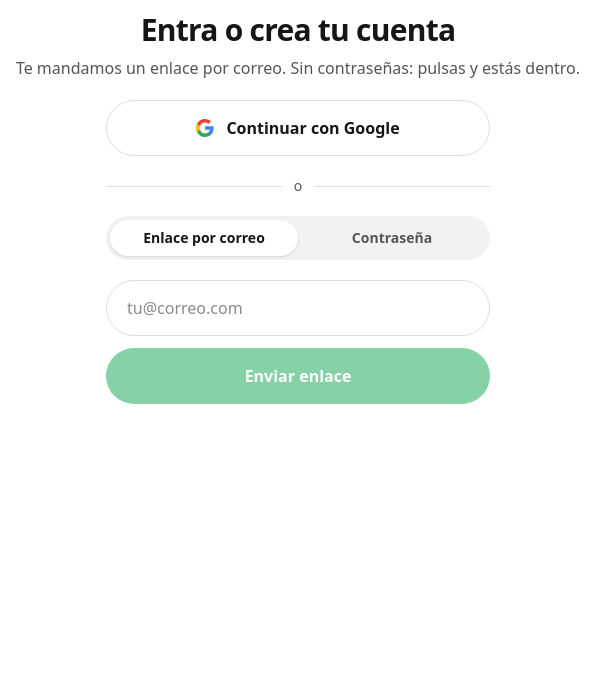
Test: AccountClient — cómo se entra y cómo se registra uno › un nombre cogido se dice antes de crear nada
Click the button "Contraseña" at (392, 238), box [298, 220, 486, 256]
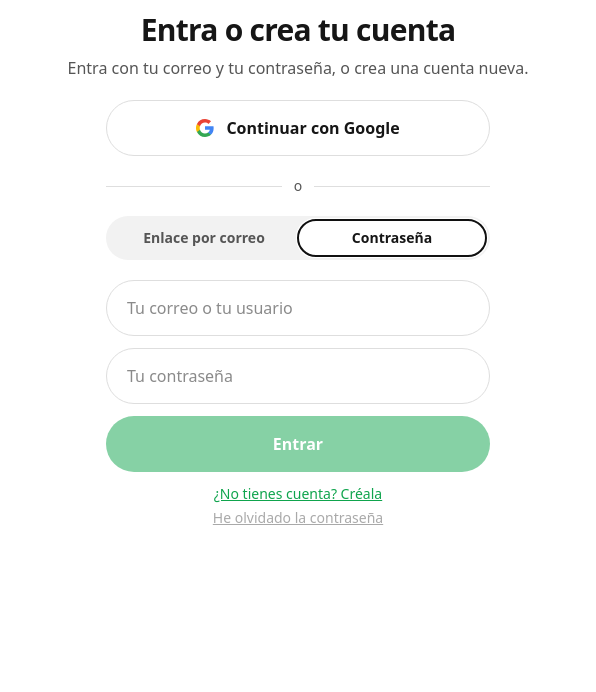
Click the button "¿No tienes cuenta? Créala" at (298, 494), box [106, 484, 490, 504]
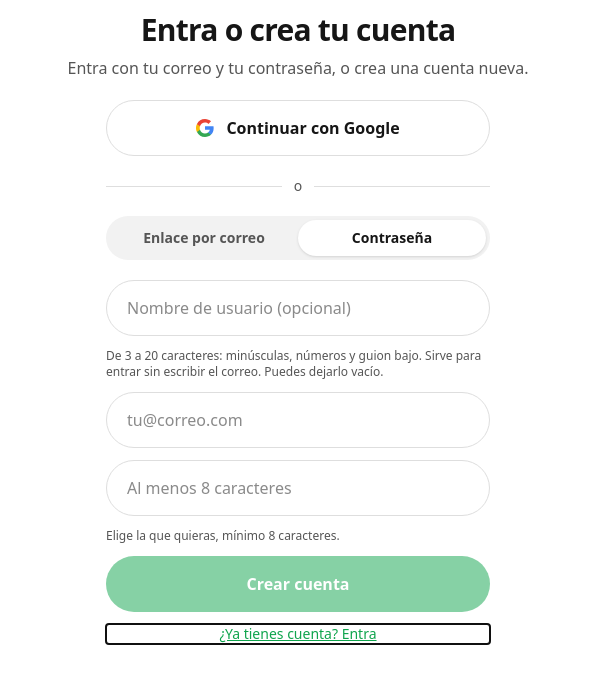
Type "ana_87" into the field labelled "Nombre de usuario" at (298, 308), box [106, 280, 490, 336]
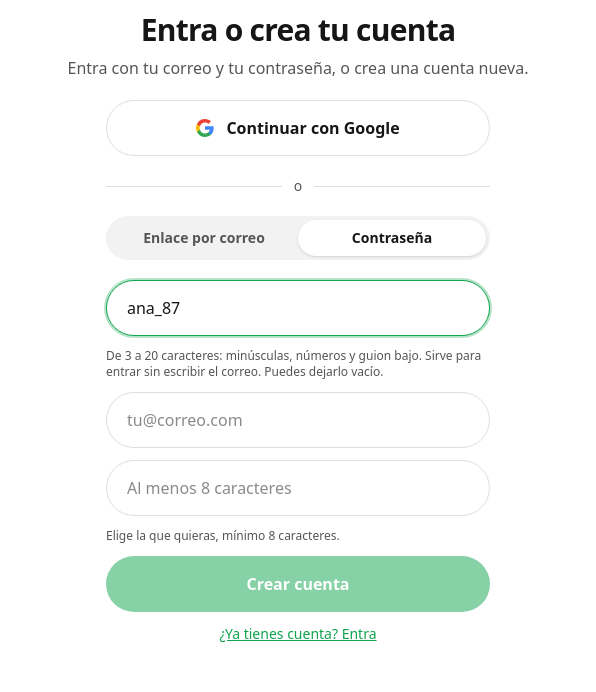
Type "ana@ejemplo.com" into the field named "Tu correo electrónico" at (298, 420), box [106, 392, 490, 448]
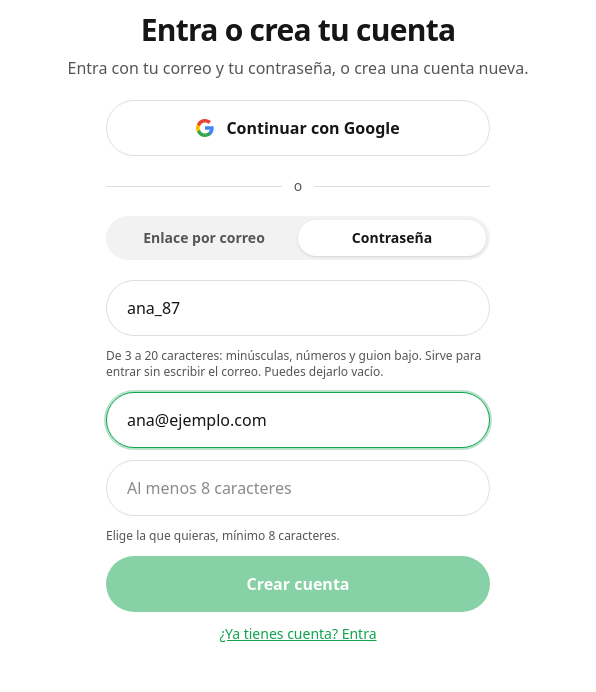
Type "contrasena-larga" into the password field named "Contraseña" at (298, 488), box [106, 460, 490, 516]
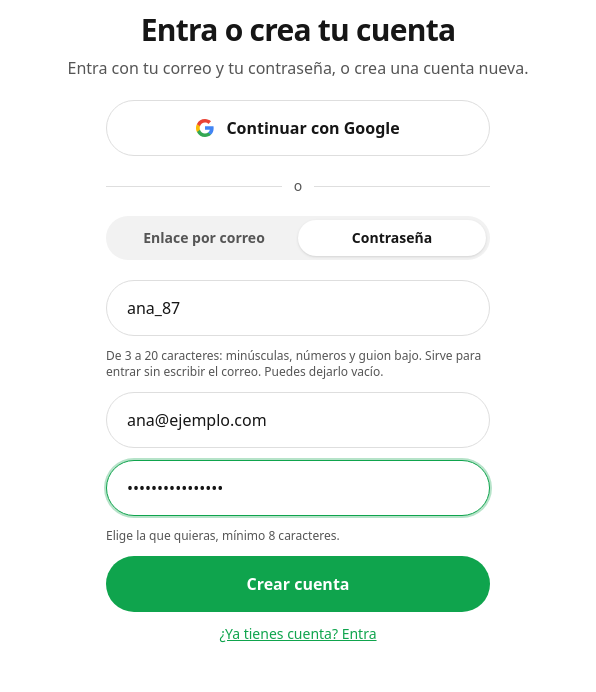
Click the button "Crear cuenta" at (298, 584), box [106, 556, 490, 612]
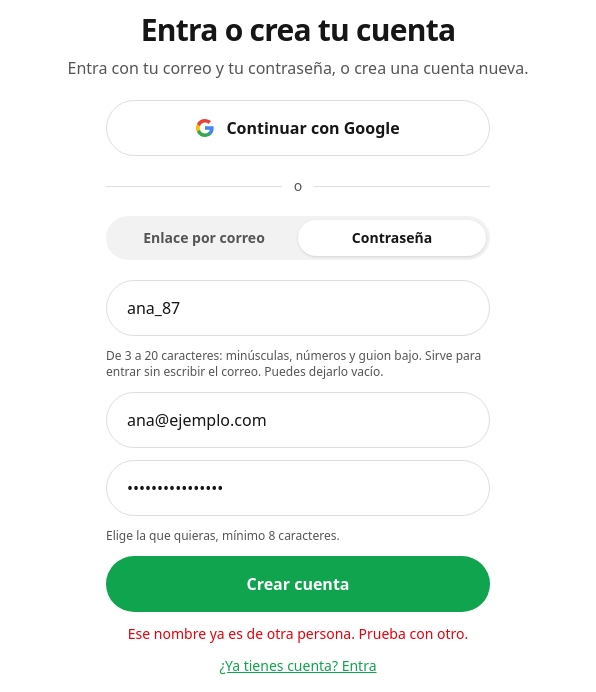
Expected: the message shows "ya es de otra persona", [128, 624, 468, 643]
